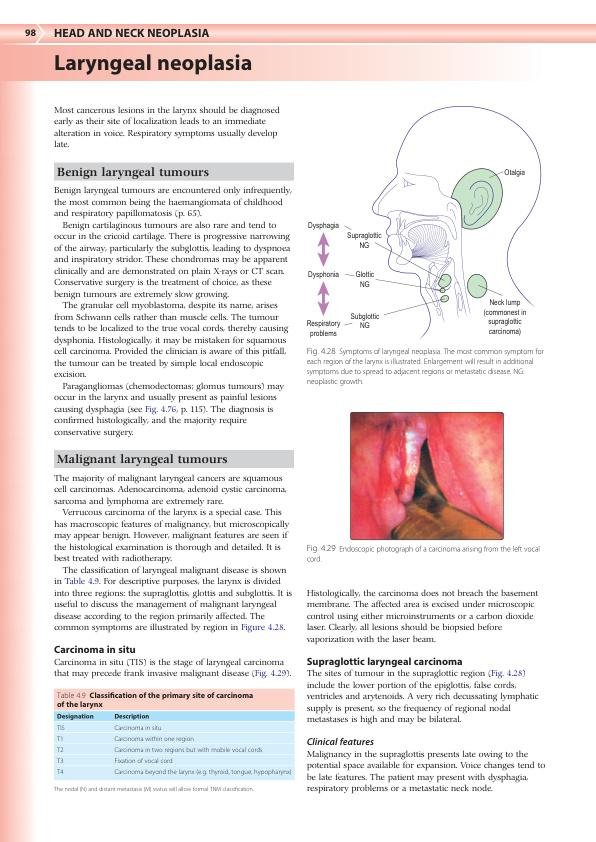caption: (305, 345, 546, 387), (306, 543, 541, 563), (55, 690, 254, 709)
chapter-heading: (54, 52, 253, 76)
header: (53, 27, 210, 38)
image: (304, 98, 552, 344), (349, 410, 505, 541)
section-heading: (56, 452, 228, 467), (55, 166, 209, 180)
sub-section-heading: (305, 656, 464, 668), (54, 644, 136, 655), (305, 736, 375, 746)
table: (54, 711, 296, 795)
text: (52, 185, 293, 440), (52, 473, 294, 633), (305, 588, 539, 646), (305, 669, 539, 726), (305, 749, 546, 794), (52, 105, 281, 149), (53, 657, 292, 680)
